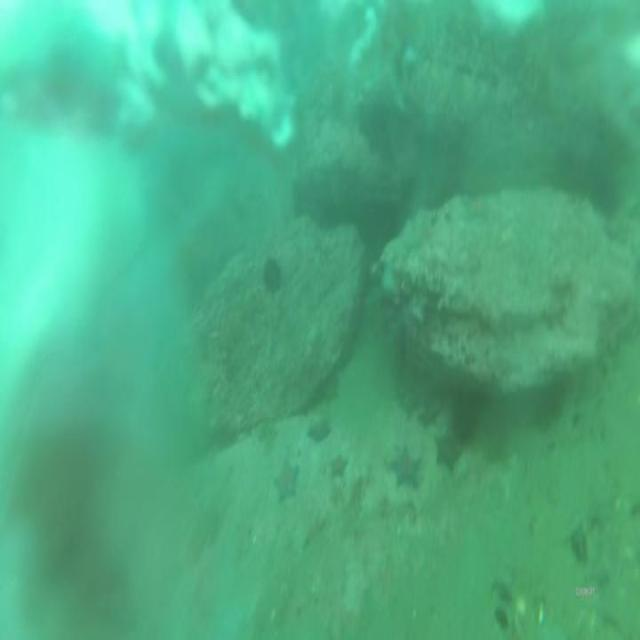echinus: (262, 258, 284, 296)
starfish: (389, 444, 422, 492), (271, 457, 301, 504), (433, 427, 462, 469), (305, 414, 331, 444), (331, 453, 348, 479)
